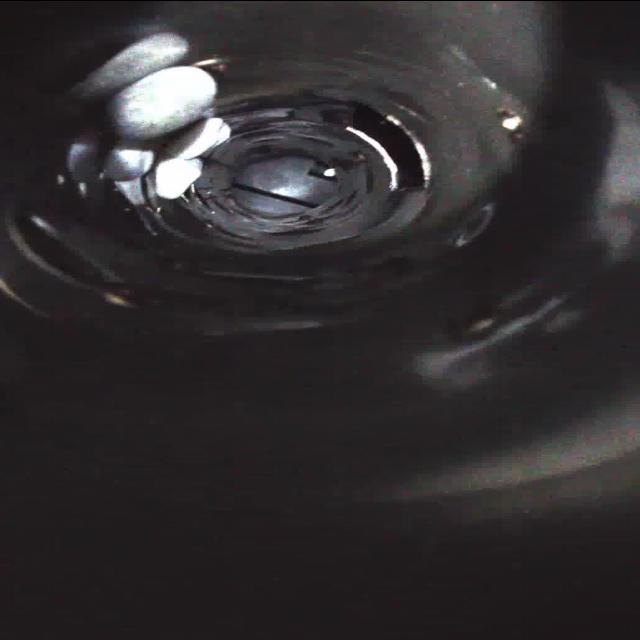crack: (199, 216, 265, 250), (222, 113, 280, 145), (268, 220, 332, 248), (173, 180, 221, 217), (173, 148, 221, 175), (342, 186, 374, 222), (290, 118, 334, 144), (328, 200, 356, 232), (364, 164, 382, 194)
hole: (346, 97, 436, 188)
